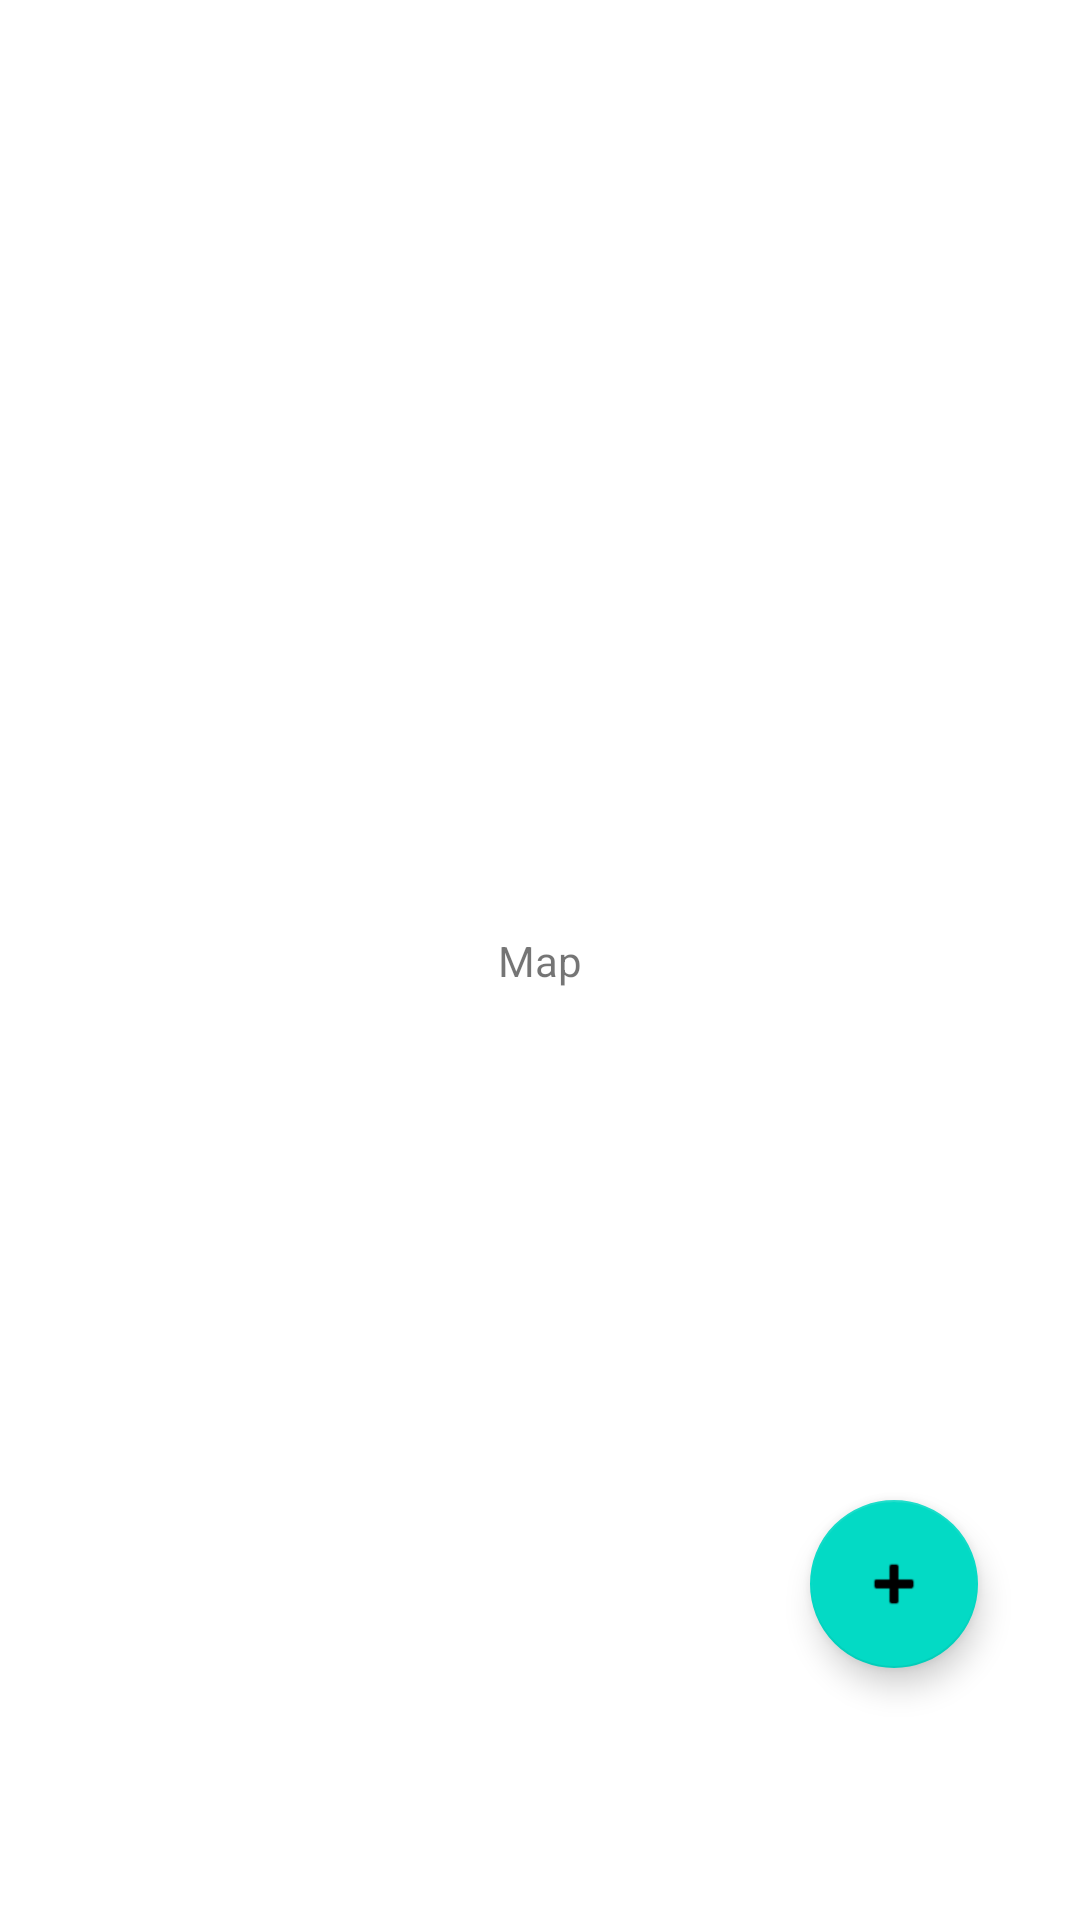

Icon click points for this 1080x1920 phone screenshot, format (x,y):
add: (894,1584)
